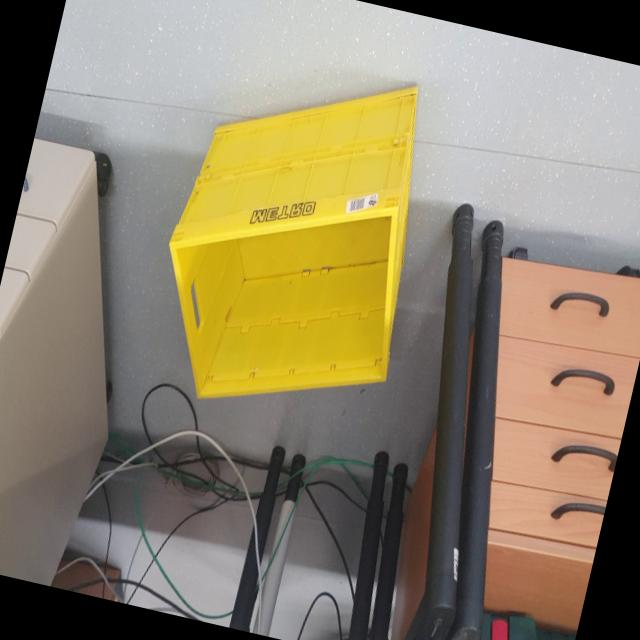box: (130, 17, 460, 446)
